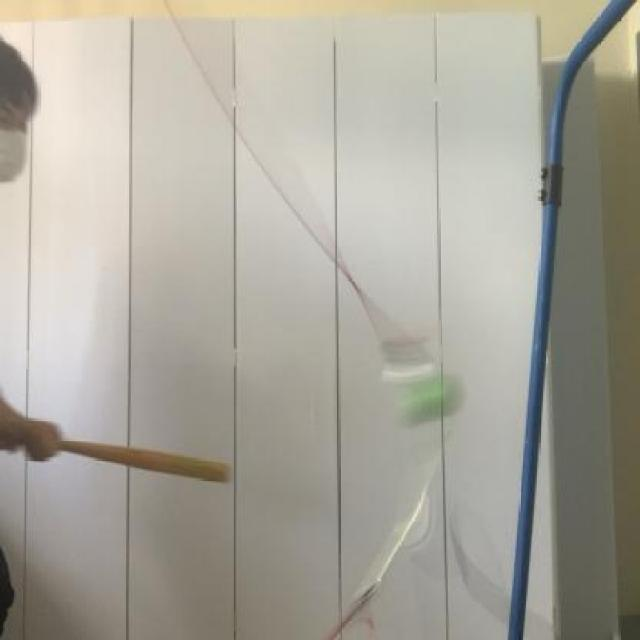baseball: (384, 358, 474, 437)
